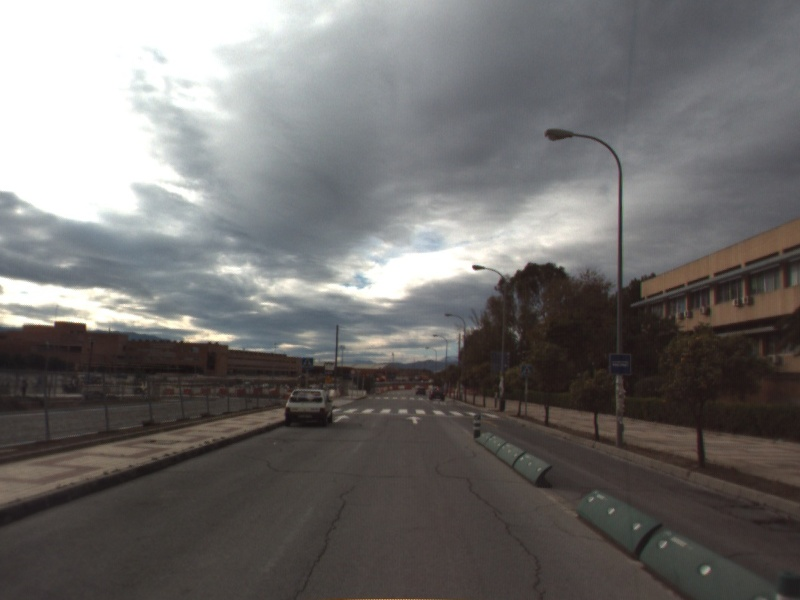STRAIGHT: (404, 414, 424, 426), (331, 413, 351, 424)
